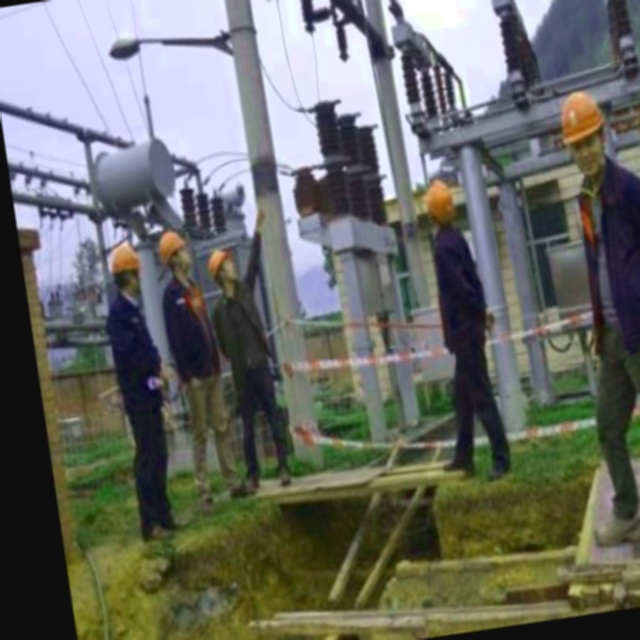Con_Casco: (554, 87, 609, 172)
